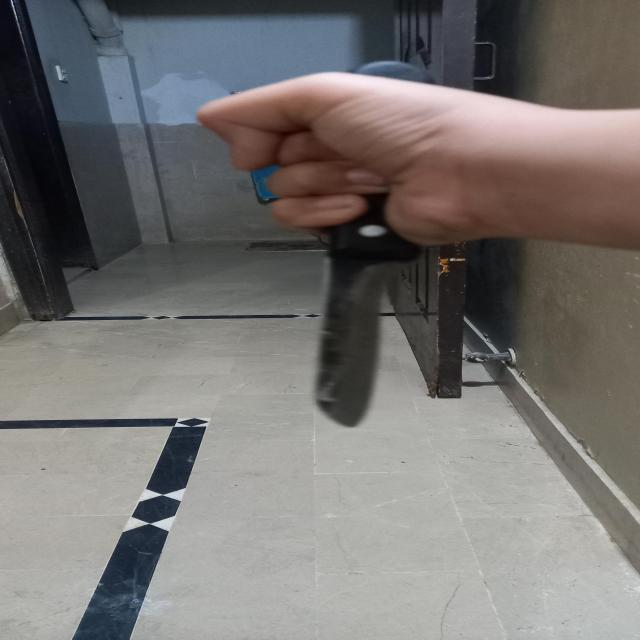faca: (318, 186, 422, 427)
